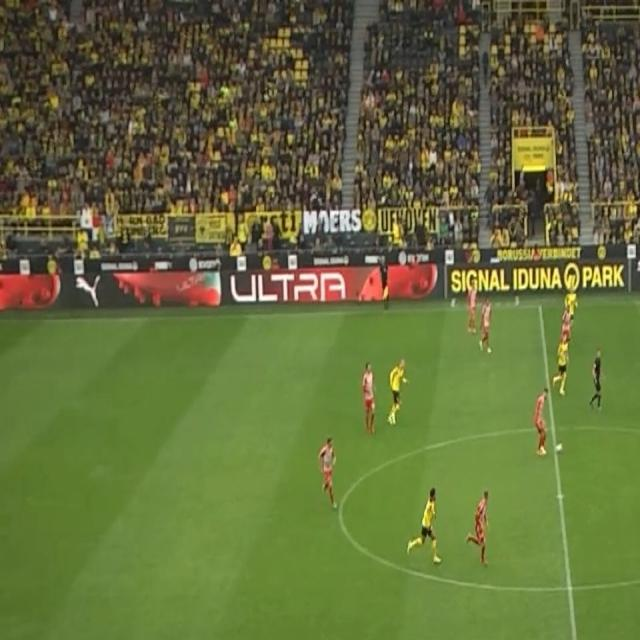ball: (555, 441, 563, 454)
